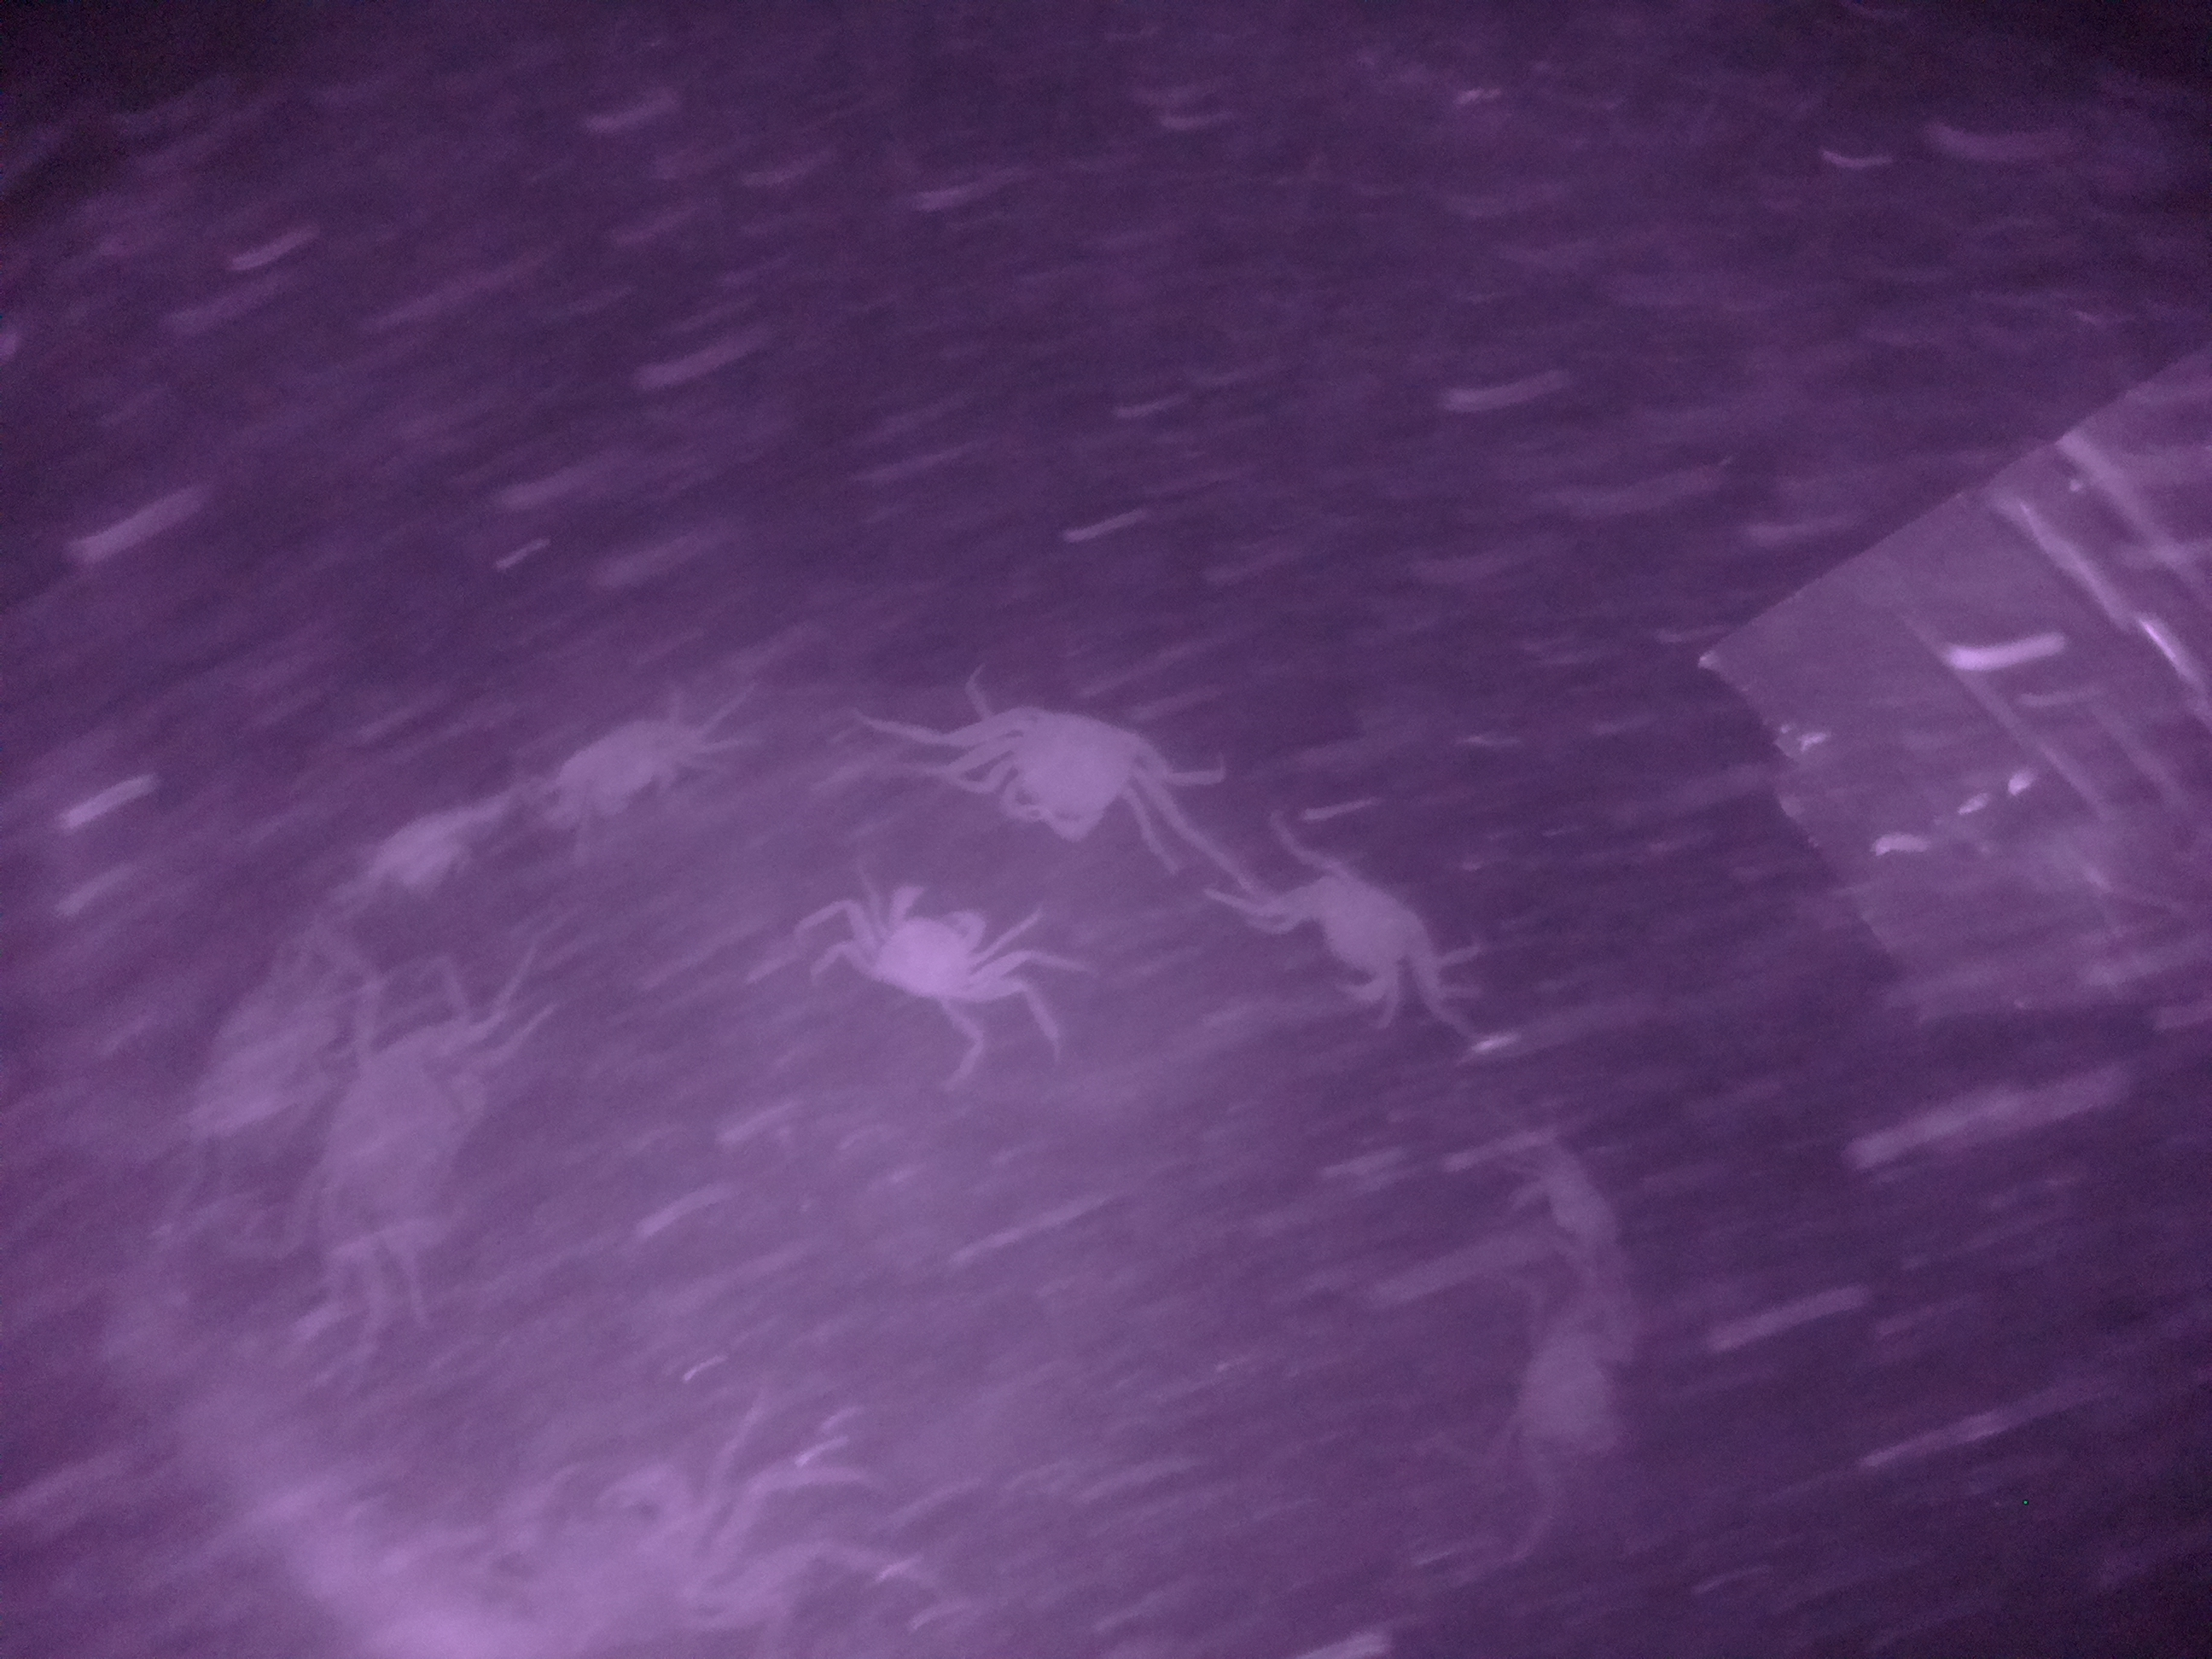Crab: (942, 692, 1191, 850), (1249, 843, 1456, 1009), (831, 873, 1021, 1012)
